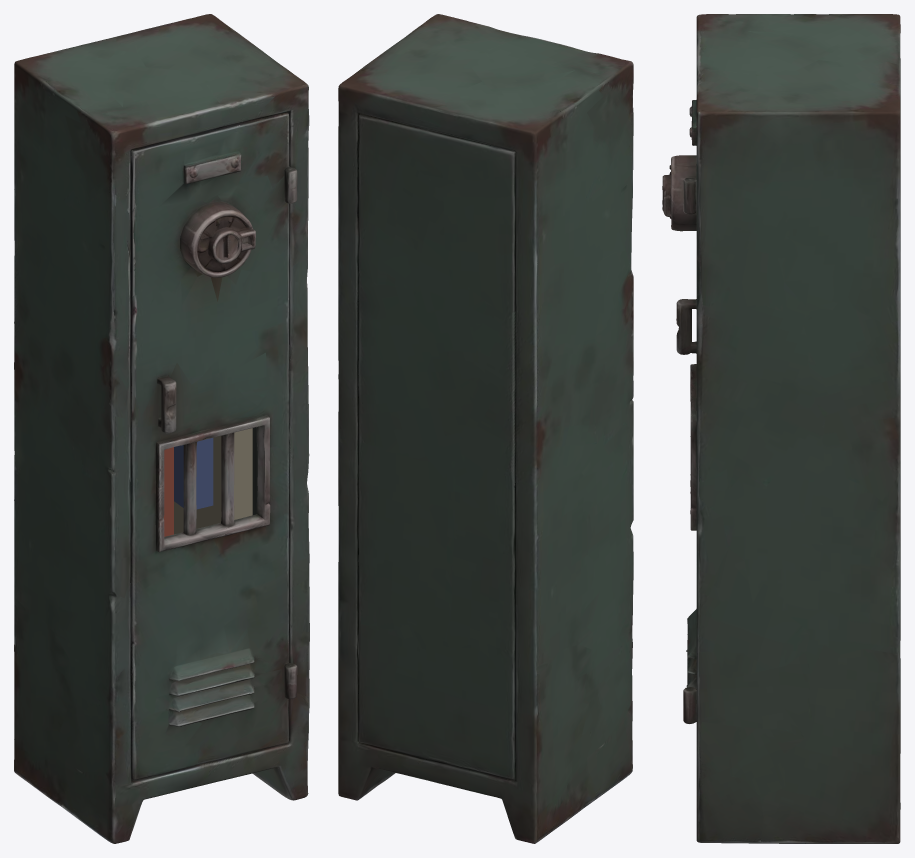
File: prison_locker_row.glb
3 views of the same model, side by side, from view 1: azimuth 30°, elevation 25°; view 2: azimuth 150°, elevation 25°; view 3: azimuth 270°, elevation 25° (orthographic). The views are drawn at different scales.
Visible parts, largest first — view 1: body, door; view 2: body; view 3: body, door.
Boxes of the visible parts, x1,y1,x2,y2 form: body: (14, 14, 309, 843); door: (135, 109, 296, 779); body: (338, 14, 633, 843); body: (684, 14, 900, 843); door: (662, 100, 696, 722).
Bounding box in the file's own units: 0.5535 × 1.9 × 0.5605.
Materials: 11 (3 with a texture image).
